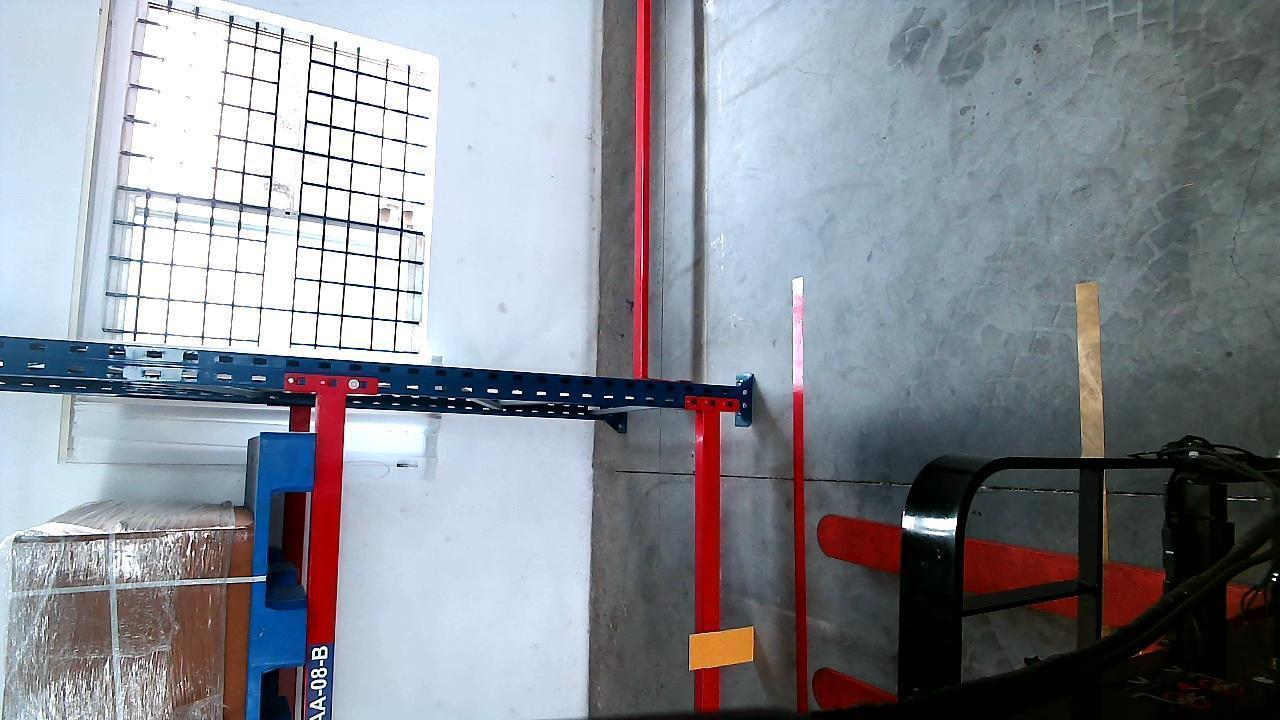red_line: (792, 274, 813, 704)
yellow_line: (1078, 279, 1104, 454)
